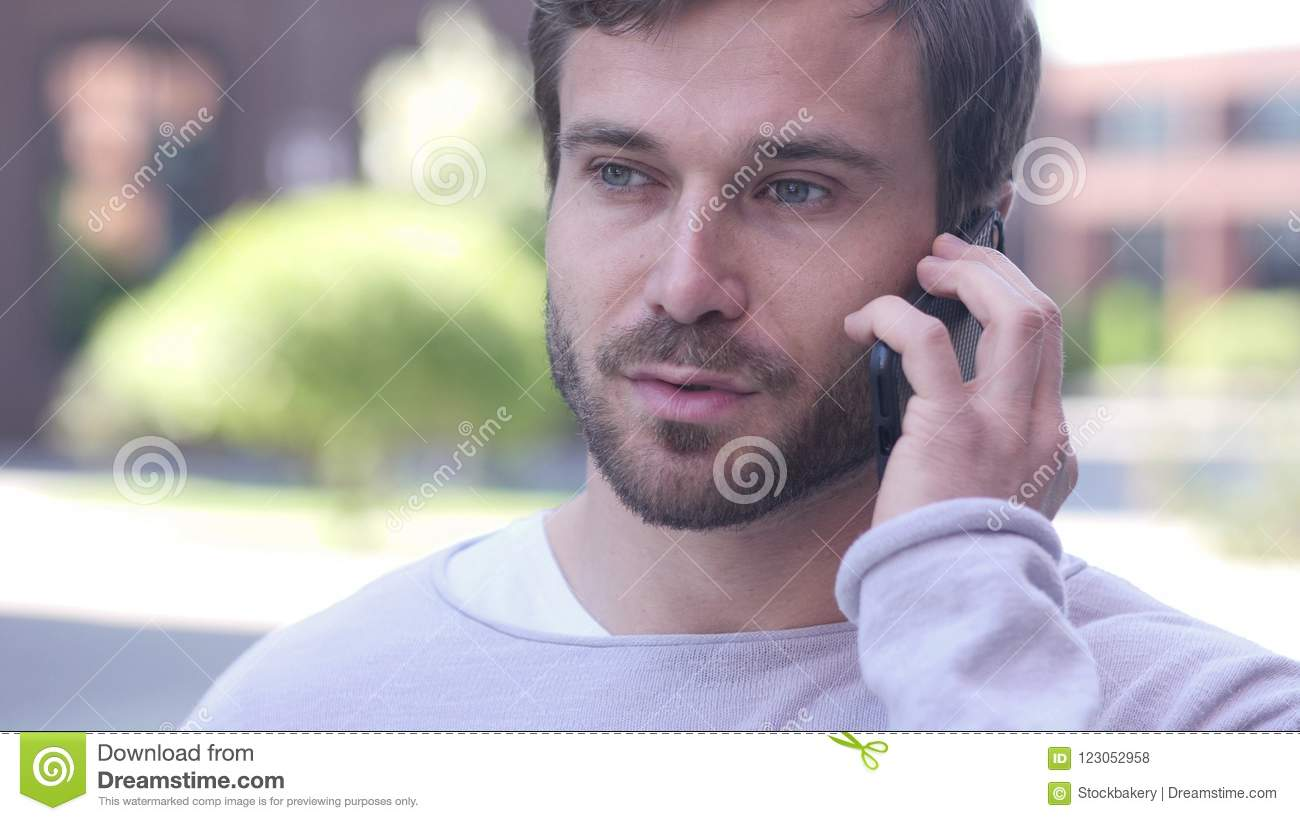phone: (868, 191, 1009, 529)
talk: (536, 98, 1079, 558)
